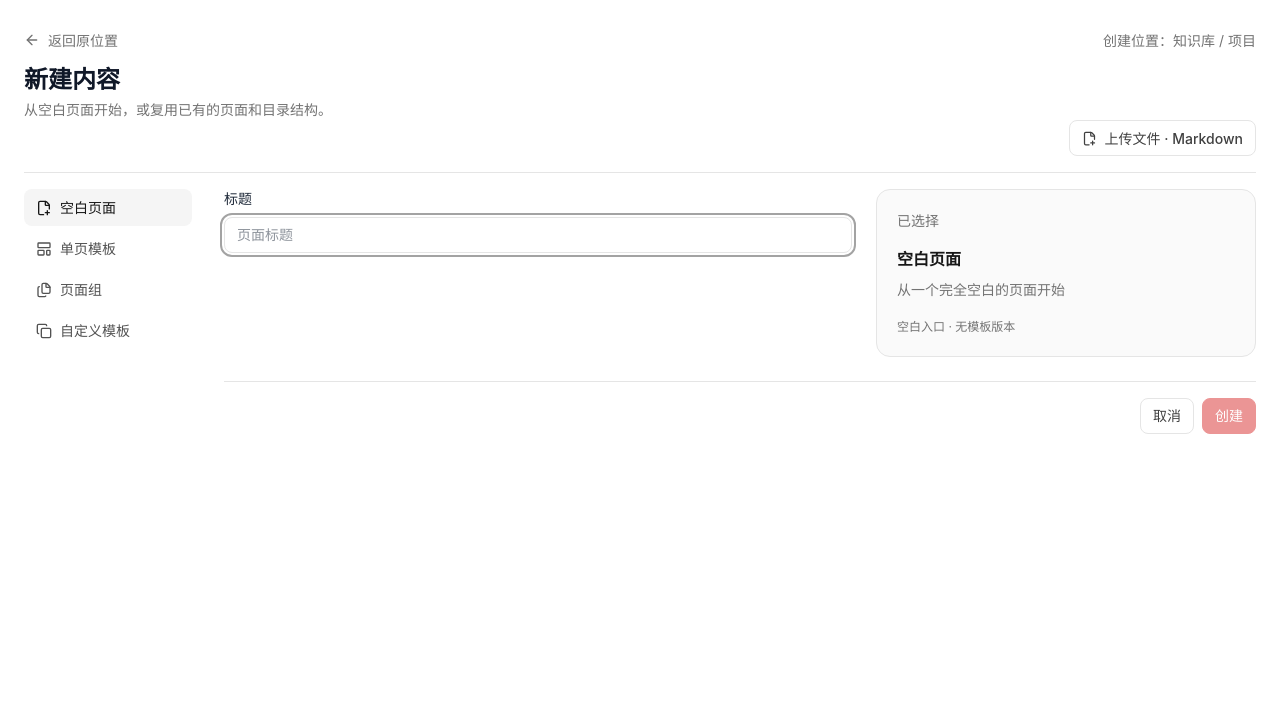
Test: New content page flow › opens custom templates directly from the creation sidebar
Click the button "自定义模板" at (108, 331), box [24,312,192,349]
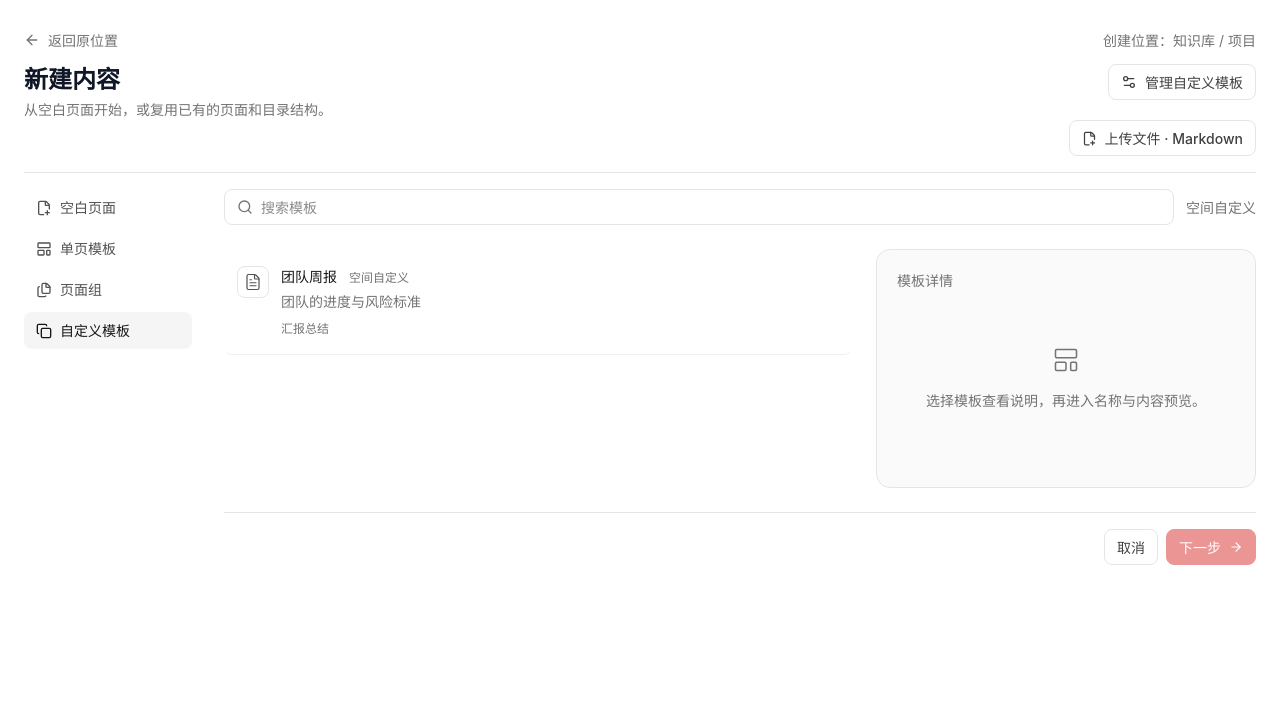
expect the button "团队周报 空间自定义 团队的进度与风险标准 汇报总结" is shown: met, box [224,249,852,355]
